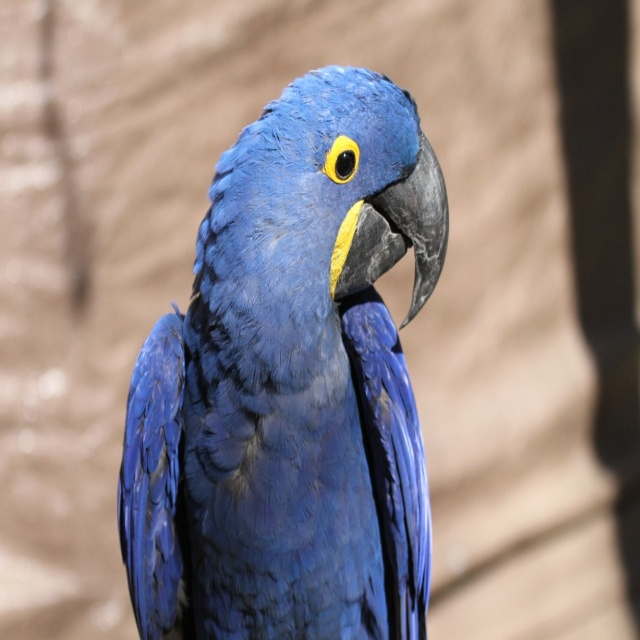Parrot: (116, 64, 449, 640)
